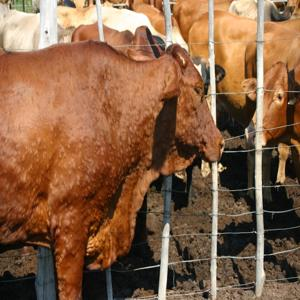lumpy skin diesease: (0, 25, 225, 299), (70, 21, 222, 207)
